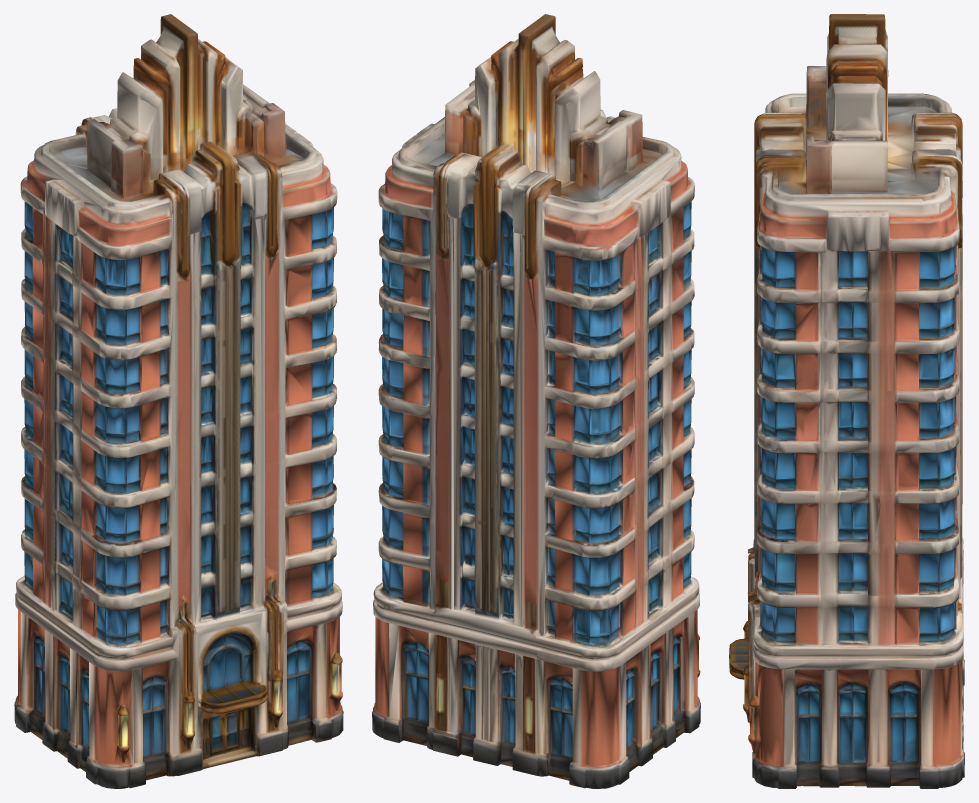
The model's file is passiona-beacon-deco-tower.glb.
The picture shows the model from 3 angles, left to right: view 1: azimuth 30°, elevation 25°; view 2: azimuth 150°, elevation 25°; view 3: azimuth 270°, elevation 25°; orthographic projection.
Parts seen in each view (by area): view 1: node_0; view 2: node_0; view 3: node_0.
Part boxes in pixels (left/top/right/bottom): node_0: left=14, top=14, right=343, bottom=788; node_0: left=372, top=14, right=700, bottom=788; node_0: left=729, top=14, right=964, bottom=788.
Size of the model in its own units: 0.4045 by 1.1 by 0.3293.
1 material, 1 textured.
